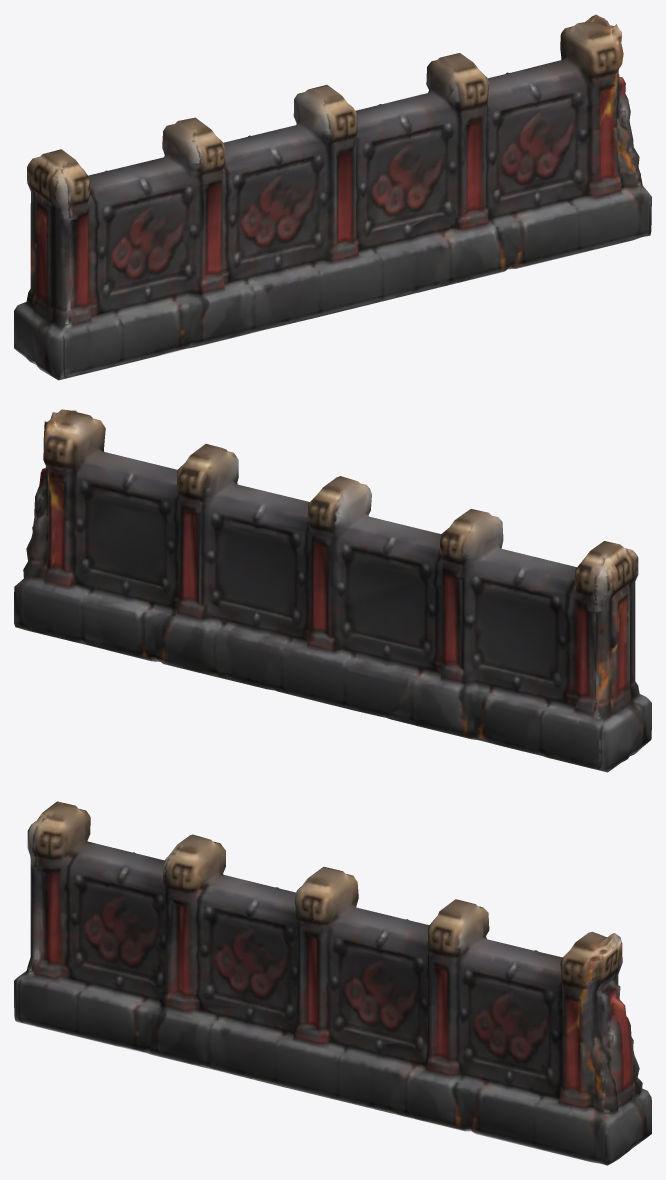
The model's file is SM_Tripo_InfernoBarricade.glb.
3 renders of one model, top to bottom at view 1: azimuth 30°, elevation 25°; view 2: azimuth 150°, elevation 25°; view 3: azimuth 330°, elevation 25°, orthographic.
Visible parts, largest first — view 1: SM_Tripo_InfernoBarricade_LOD0; view 2: SM_Tripo_InfernoBarricade_LOD0; view 3: SM_Tripo_InfernoBarricade_LOD0.
Part boxes in pixels (bbox=[...]): SM_Tripo_InfernoBarricade_LOD0: bbox=[14, 14, 651, 380]; SM_Tripo_InfernoBarricade_LOD0: bbox=[14, 409, 651, 772]; SM_Tripo_InfernoBarricade_LOD0: bbox=[14, 801, 651, 1165].
Size of the model in its own units: 3.56 by 1.18 by 0.47.
1 material, 1 textured.
